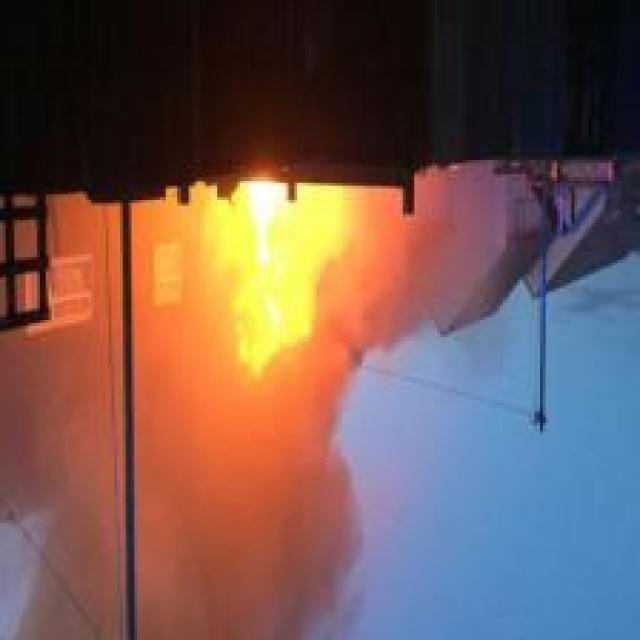Fire: (206, 176, 346, 374)
